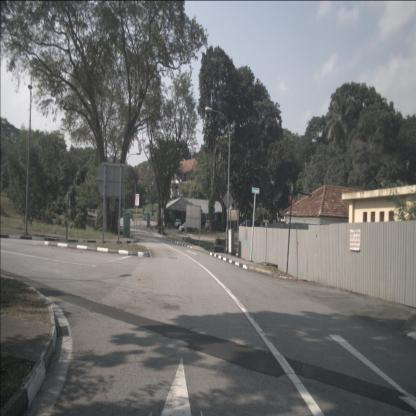vehicle-car: (240, 219, 264, 238), (178, 221, 194, 232), (174, 219, 182, 229)
